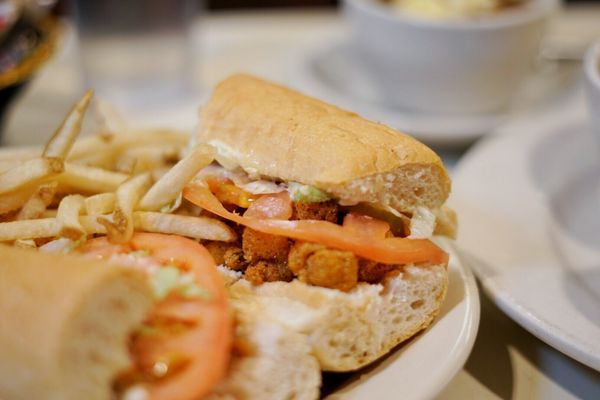soup: (176, 72, 459, 379), (177, 73, 458, 273)
sushi: (342, 0, 558, 115)
